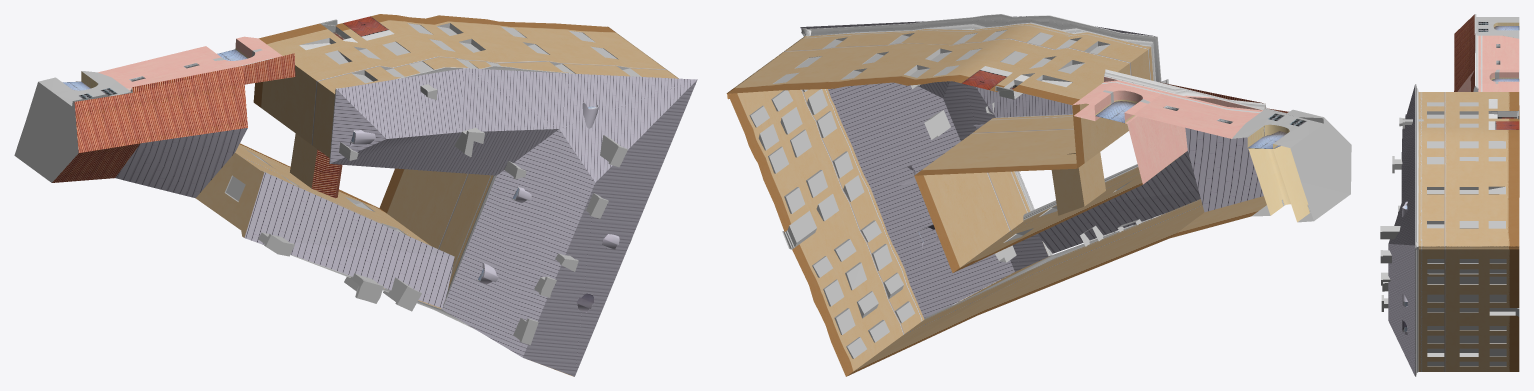
The model's file is Lai-13-origo.obj.
3 views of the same model, side by side, from view 1: azimuth 30°, elevation 25°; view 2: azimuth 150°, elevation 25°; view 3: azimuth 270°, elevation 25° (orthographic). The views are drawn at different scales.
Visible parts, largest first — view 1: Lai_13; view 2: Lai_13; view 3: Lai_13.
Boxes of the visible parts, box(x1,y1,x2,y2) form: Lai_13: box(14, 14, 697, 376); Lai_13: box(726, 14, 1351, 376); Lai_13: box(1380, 14, 1519, 376).
Bounding box in the file's own units: 60 × 33.5 × 19.02.
